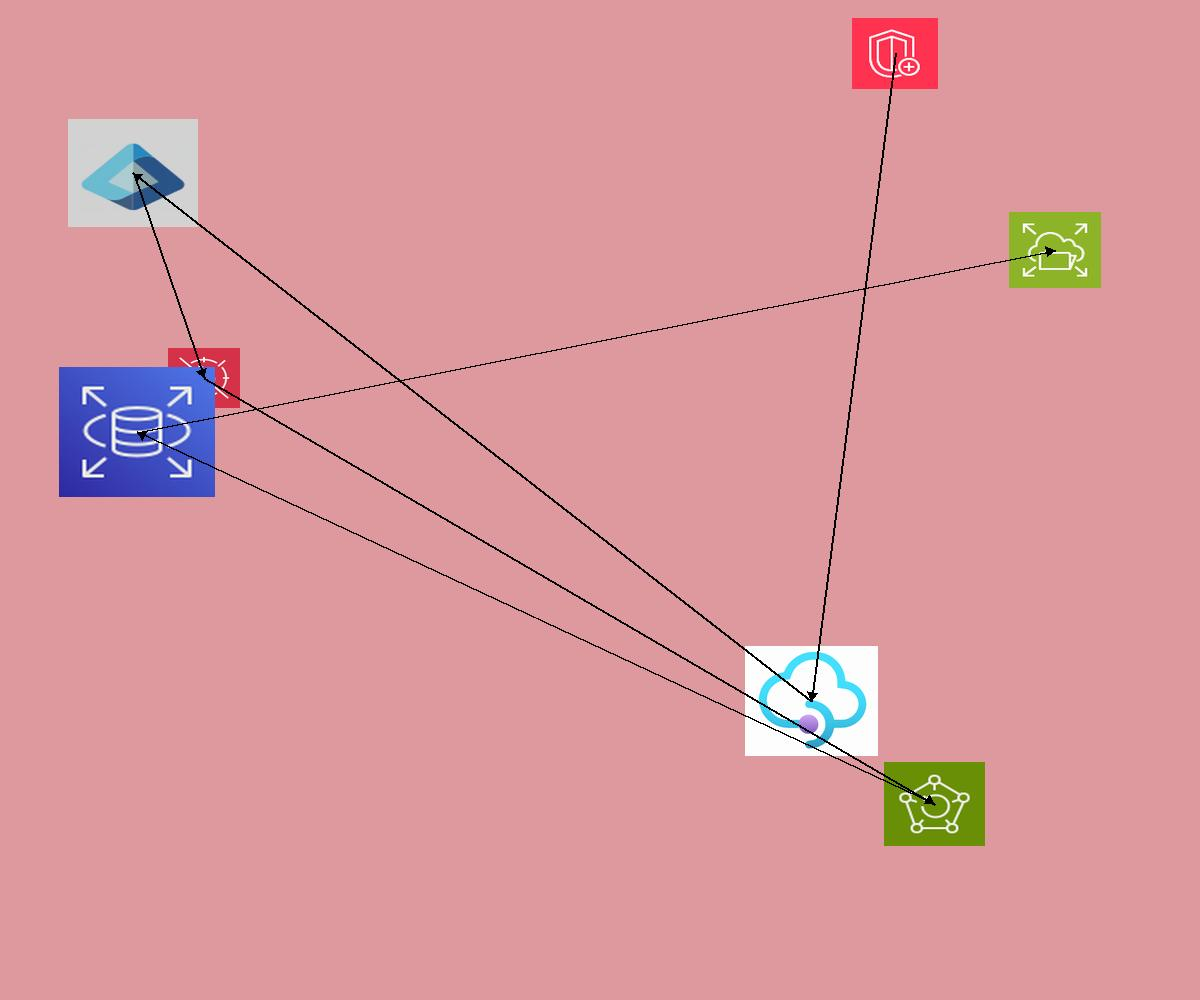AWS-Backup: (884, 762, 985, 846)
AWS-EFS: (1009, 212, 1101, 288)
AWS-RDS: (59, 367, 215, 497)
AWS-Shield: (852, 18, 938, 89)
AWS-WAF: (168, 348, 240, 408)
Azure_api_gateway: (745, 646, 878, 756)
Azure_microsoft_entra: (68, 119, 198, 227)
